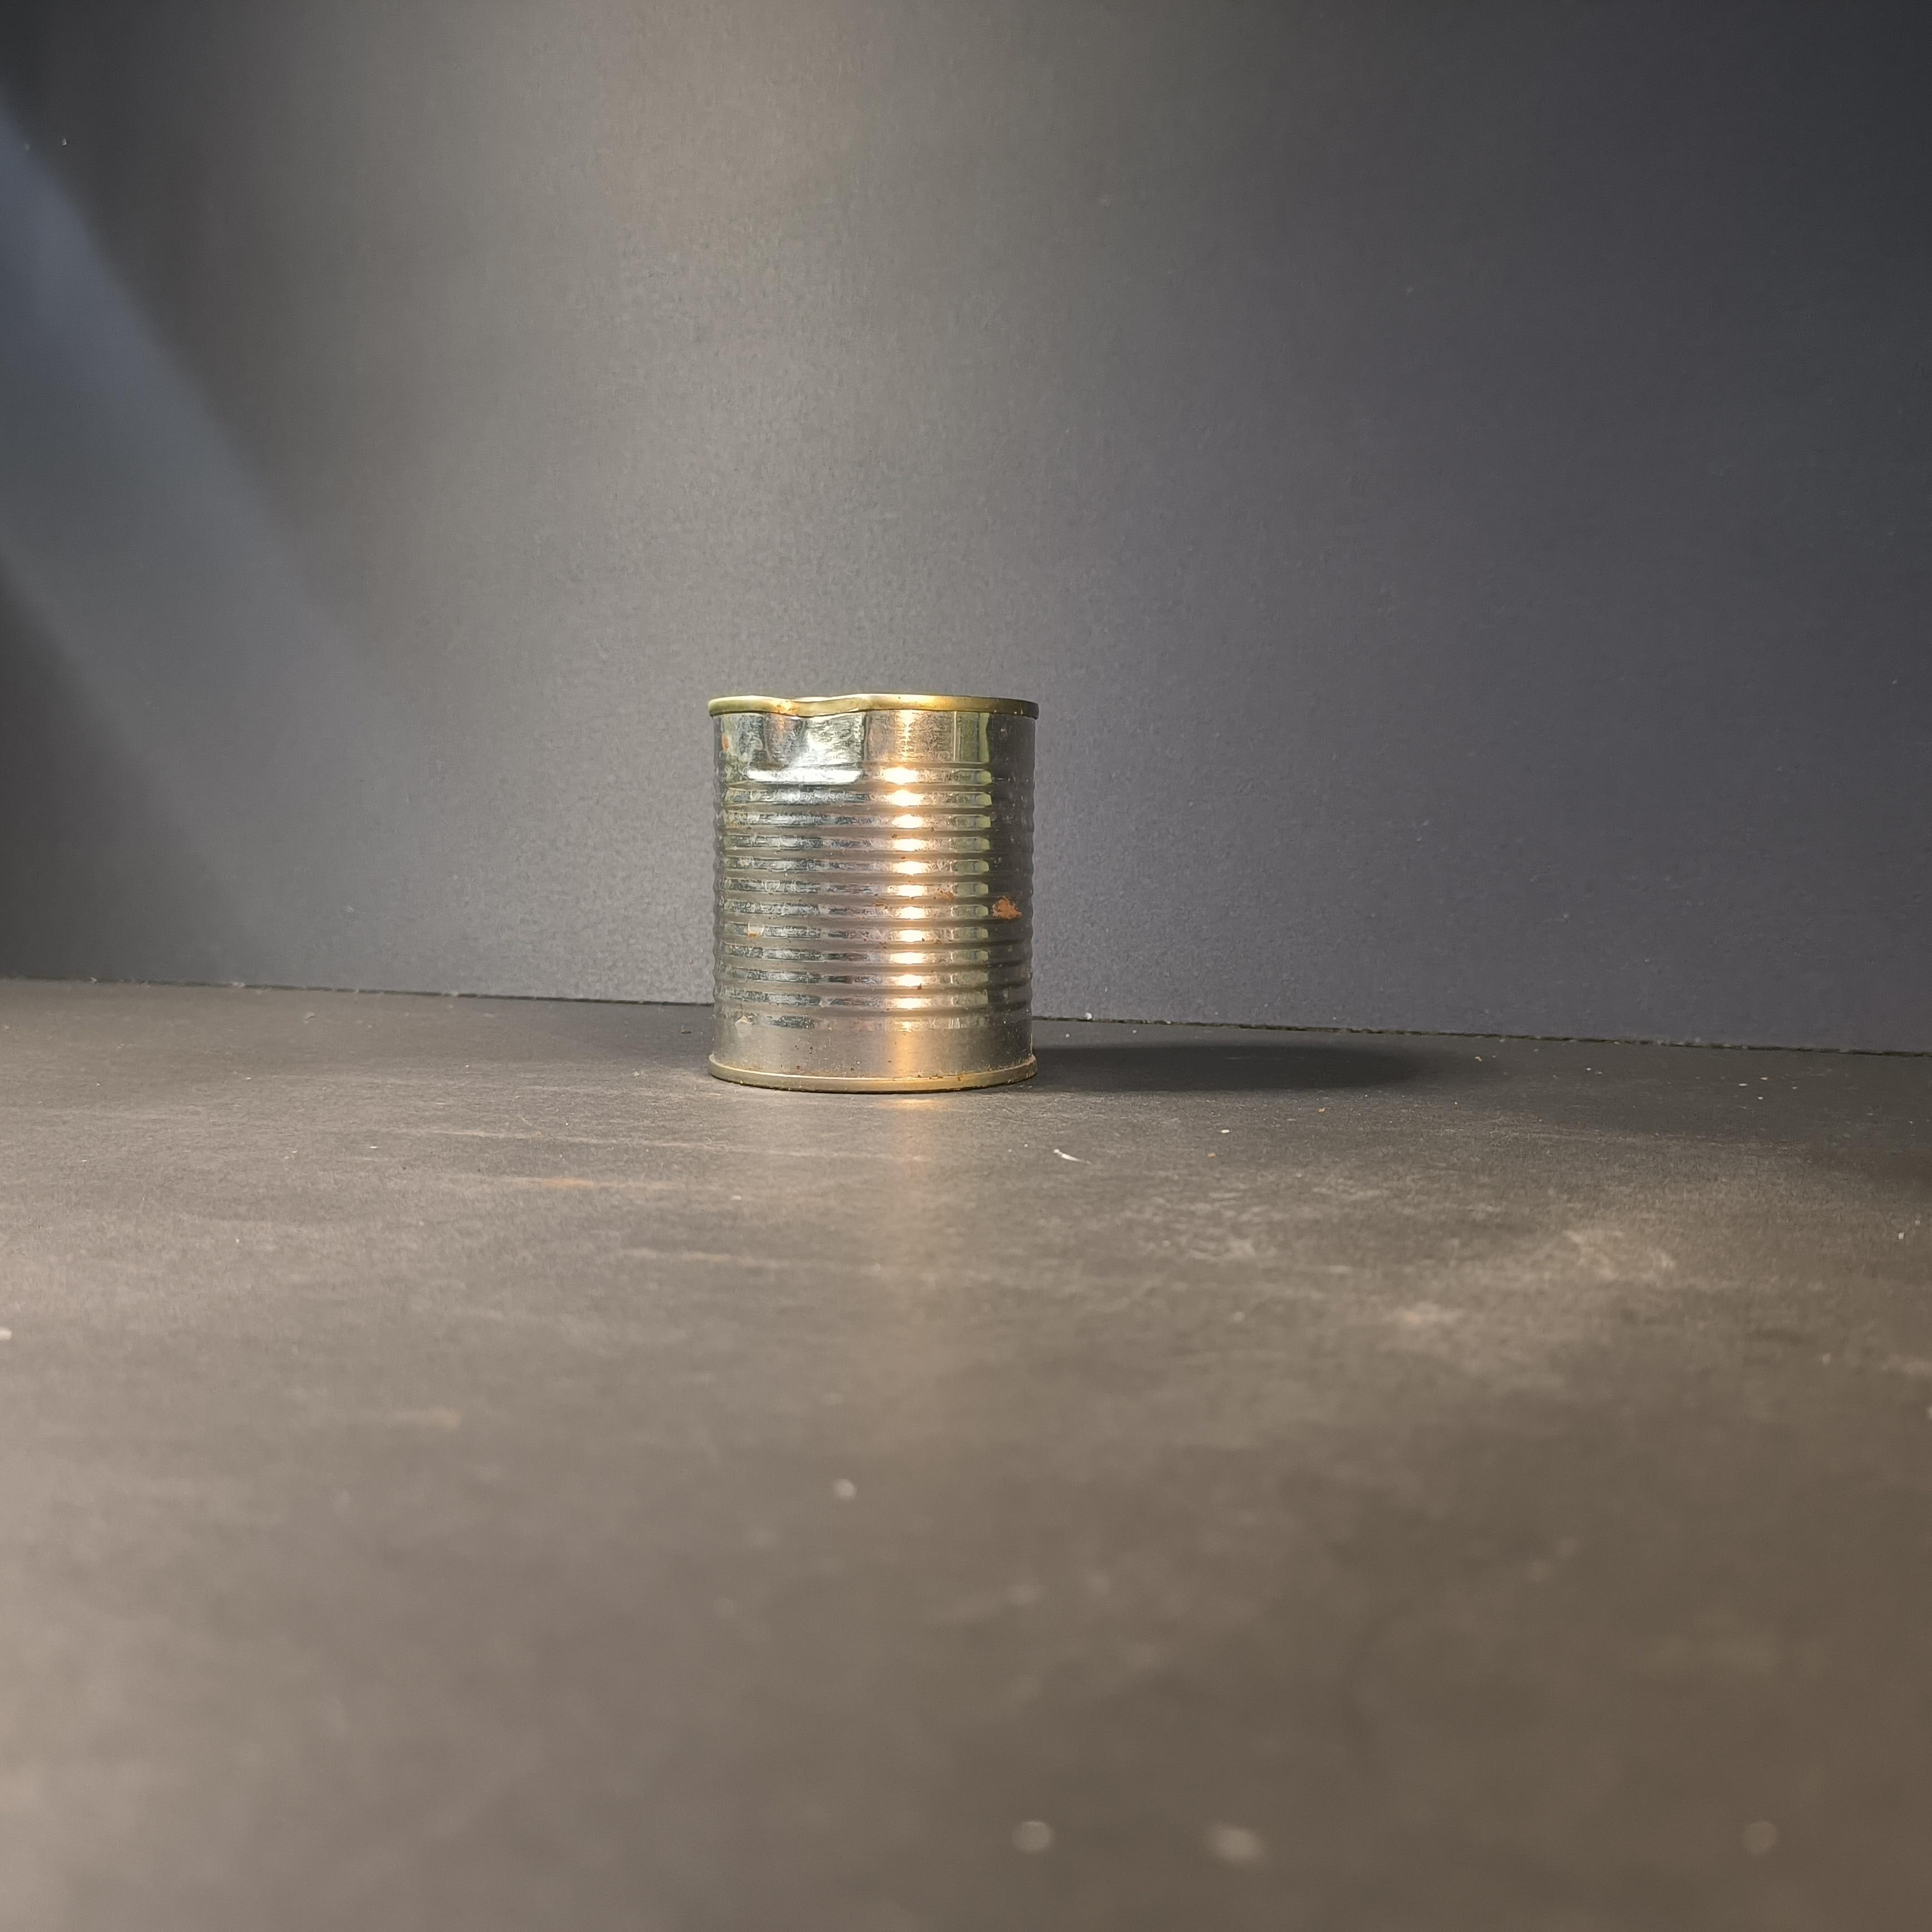Dented: (681, 660, 1060, 1099)
